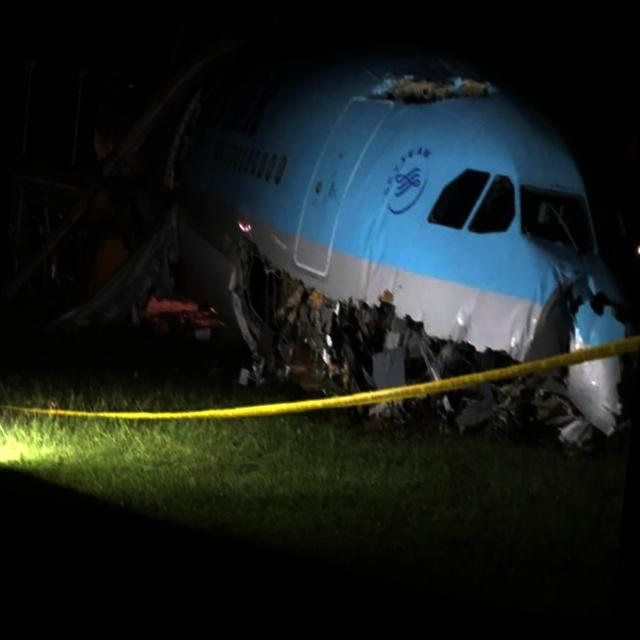crack: (365, 60, 506, 128)
dent: (354, 172, 408, 303)
